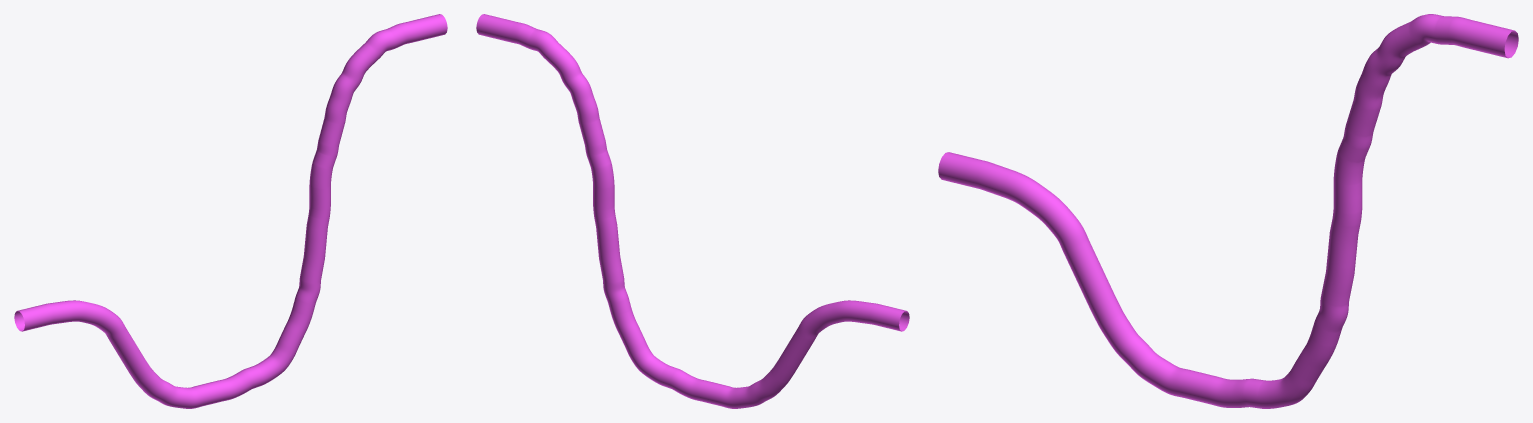
The model's file is tobogan3.fbx.
The picture shows the model from 3 angles, left to right: view 1: azimuth 30°, elevation 25°; view 2: azimuth 150°, elevation 25°; view 3: azimuth 330°, elevation 25°; orthographic projection. The views are drawn at different scales.
Visible parts, largest first — view 1: Tobogan3; view 2: Tobogan3; view 3: Tobogan3.
Boxes of the visible parts, x1,y1,x2,y2 form: Tobogan3: (14, 14, 447, 408); Tobogan3: (476, 14, 909, 408); Tobogan3: (938, 14, 1518, 408).
Size of the model in its own units: 274 by 206 by 12.
